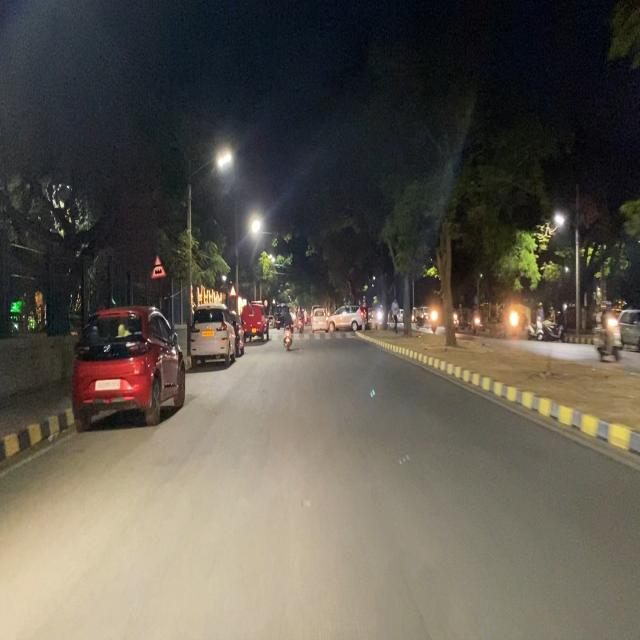bien_cam: (150, 254, 167, 281)
